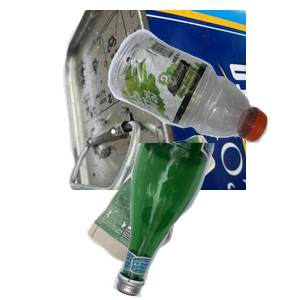glass: (109, 143, 300, 300)
metal: (60, 10, 300, 190)
plastic: (105, 27, 300, 162)
trash: (84, 133, 292, 300)
